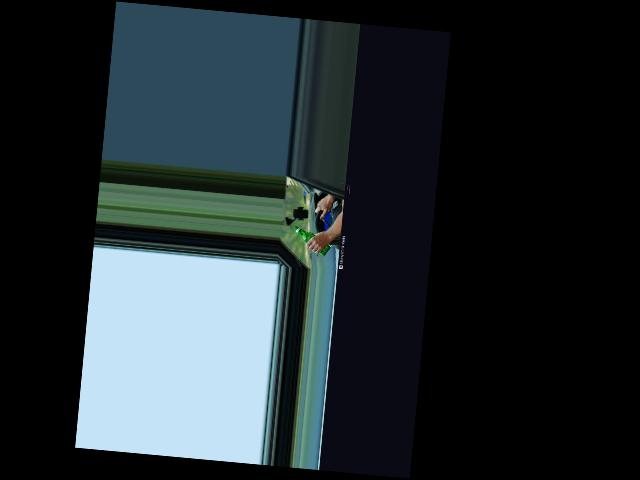beer: (292, 225, 332, 255)
